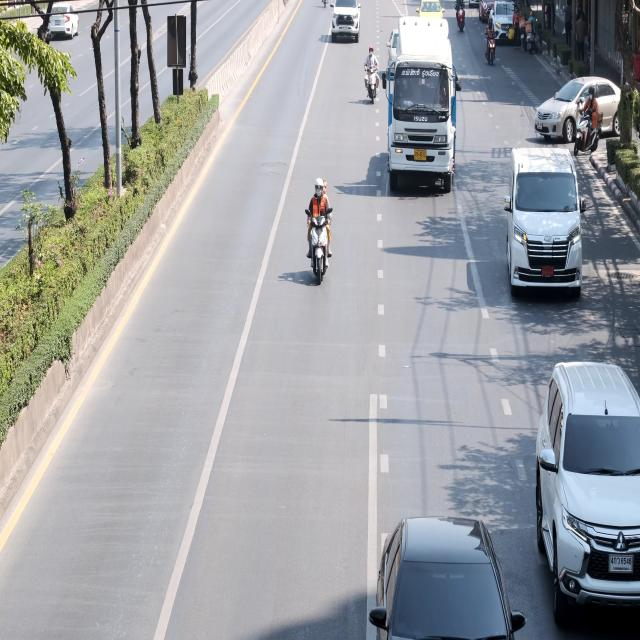cars: (523, 353, 640, 640), (354, 475, 528, 640), (378, 17, 464, 213), (500, 132, 584, 323), (531, 42, 628, 152), (38, 0, 82, 61), (324, 0, 370, 49), (488, 3, 519, 45), (416, 0, 448, 34), (474, 2, 496, 22)
motorcycle: (294, 156, 343, 304), (575, 77, 608, 194), (359, 40, 383, 112), (480, 22, 504, 90), (525, 16, 546, 61), (516, 9, 528, 65), (455, 0, 466, 37)
